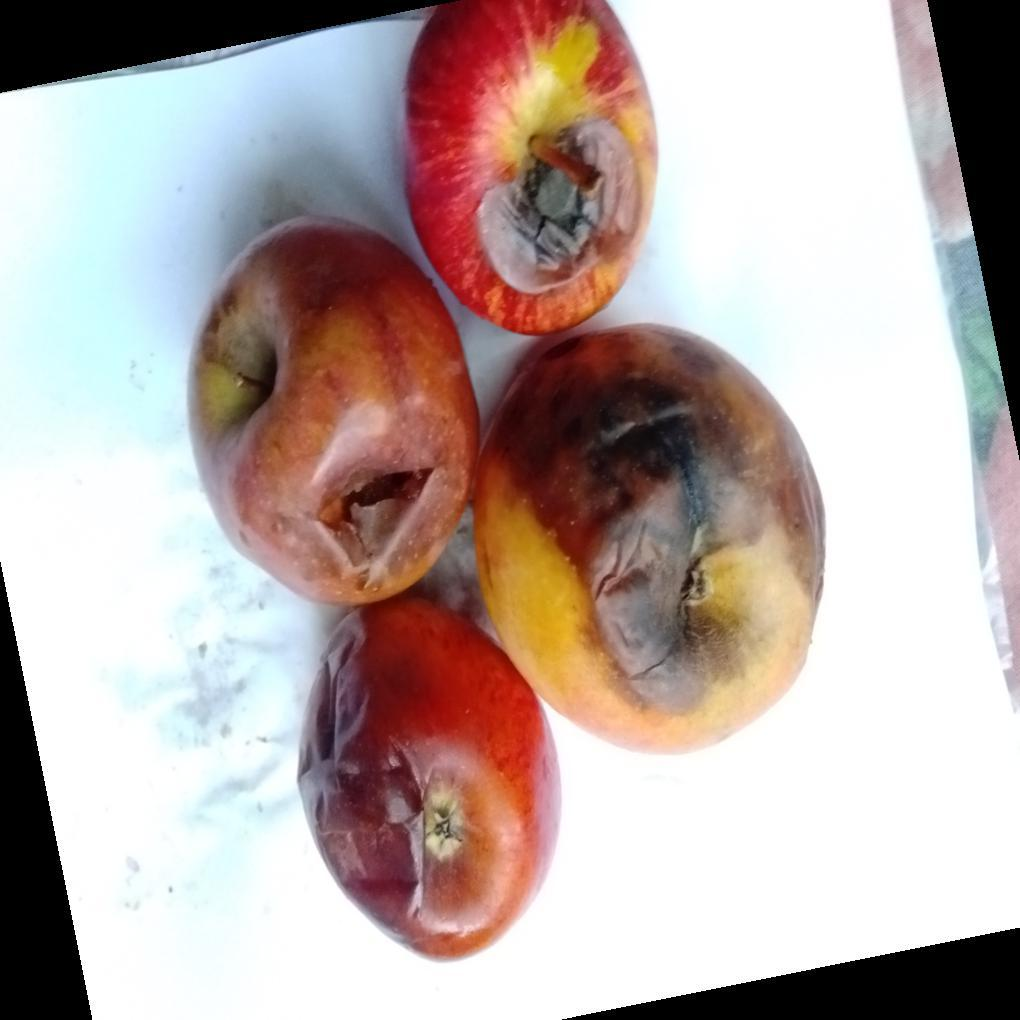FreshOrange: (186, 0, 826, 909)
